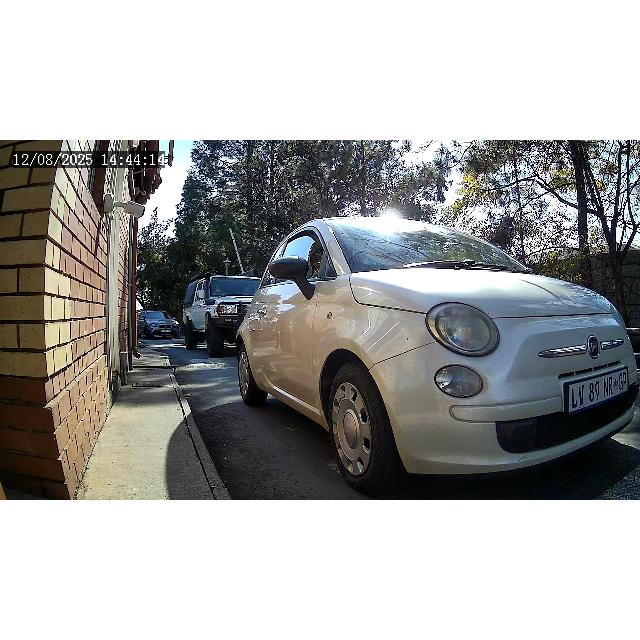car: (230, 213, 640, 492), (178, 272, 266, 354), (136, 308, 180, 340)
plate: (562, 366, 632, 416)
